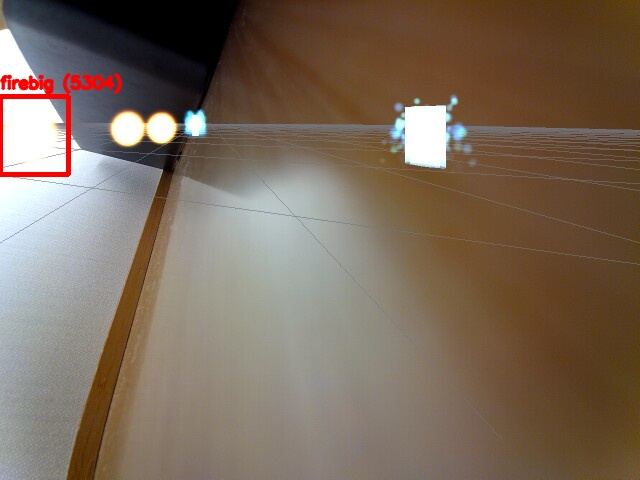firebig: (0, 96, 68, 174)
